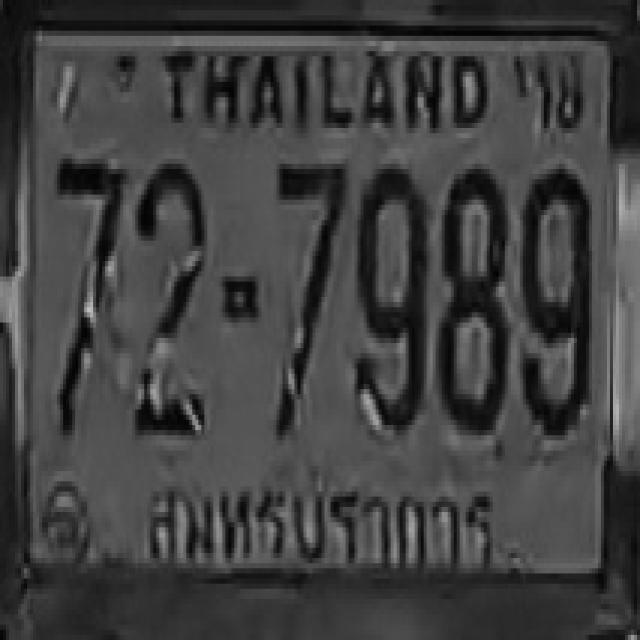2: (132, 158, 210, 442)
7: (52, 154, 124, 435), (274, 159, 346, 425)
8: (437, 164, 506, 430)
9: (353, 162, 425, 428), (520, 164, 589, 430)
SamutPrakan: (134, 480, 511, 590)
